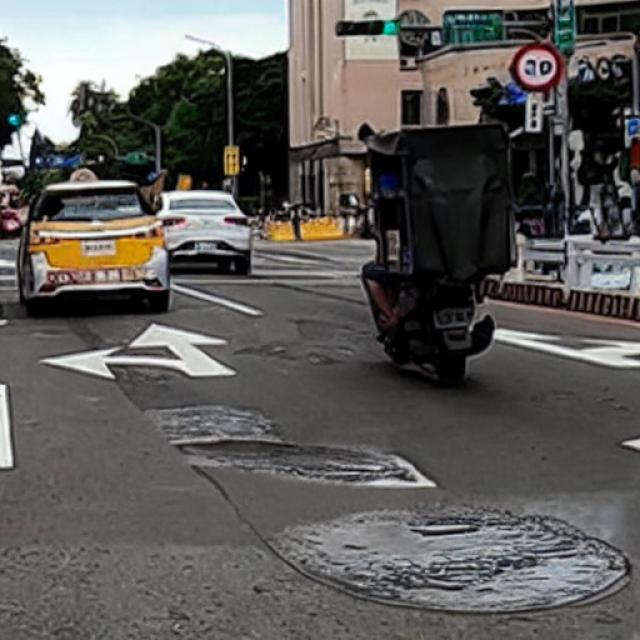puddle: (272, 509, 630, 616), (162, 409, 422, 482)
